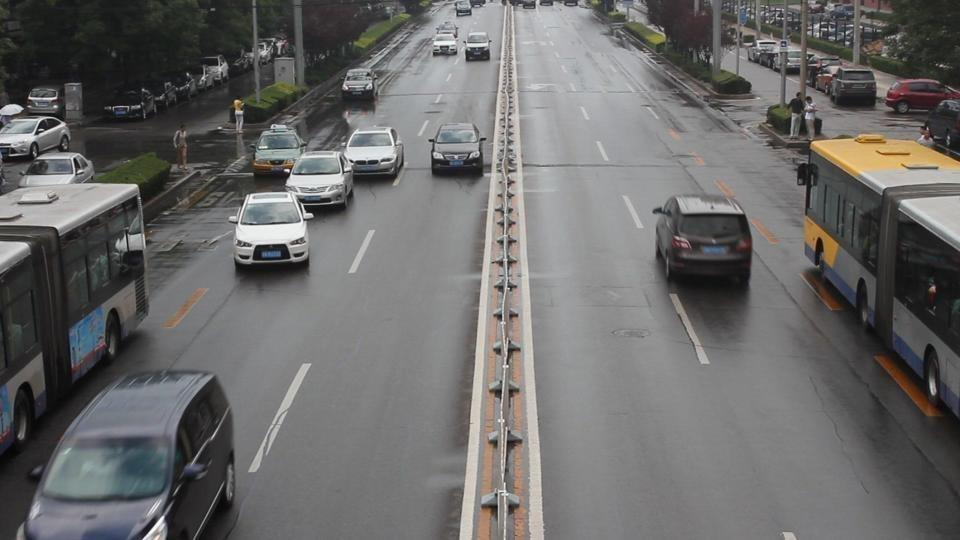car: (19, 368, 239, 536), (652, 193, 753, 288), (232, 189, 312, 268), (285, 152, 358, 209), (342, 127, 406, 178), (0, 116, 71, 161), (429, 122, 487, 175), (251, 126, 307, 176), (18, 151, 96, 186), (885, 79, 960, 113), (105, 85, 160, 121), (829, 66, 877, 107), (925, 100, 959, 145), (341, 68, 377, 101), (26, 86, 64, 117), (814, 58, 844, 93), (749, 39, 782, 65), (464, 31, 491, 61), (431, 32, 458, 57), (779, 50, 807, 74), (455, 1, 472, 16)
